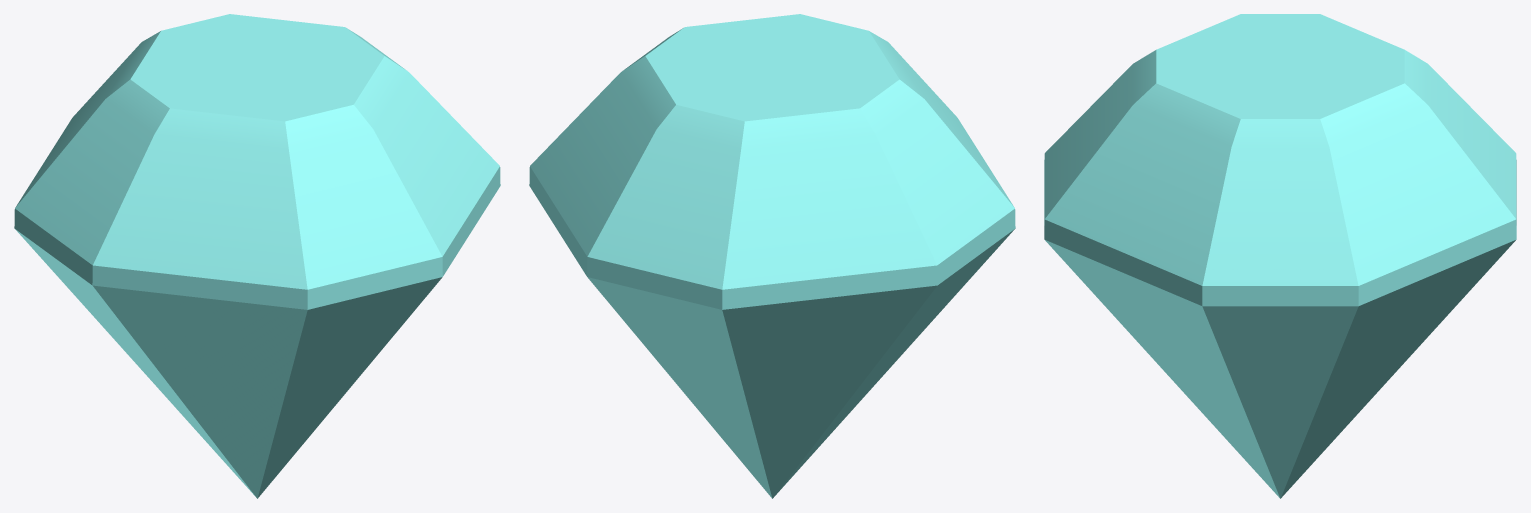
File: Gem_gltf.gltf
3 views of the same model, side by side, from view 1: azimuth 30°, elevation 25°; view 2: azimuth 150°, elevation 25°; view 3: azimuth 270°, elevation 25° (orthographic).
Parts seen in each view (by area): view 1: Gem_Green_Cube.281; view 2: Gem_Green_Cube.281; view 3: Gem_Green_Cube.281.
Boxes of the visible parts, x1,y1,x2,y2 form: Gem_Green_Cube.281: (14,14,500,498); Gem_Green_Cube.281: (529,14,1015,498); Gem_Green_Cube.281: (1044,14,1516,498).
Bounding box in the file's own units: 2.99 × 3.02 × 2.99.
1 material, 1 textured.
